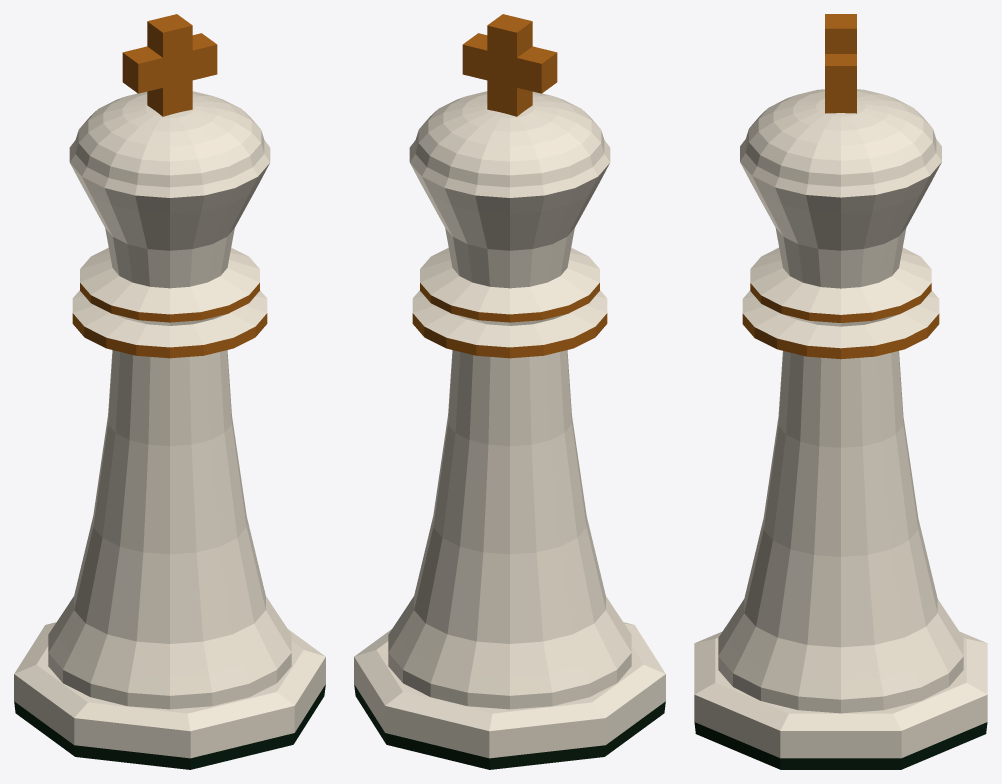
File: cozy_chess_white_king.obj
3 views of the same model, side by side, from view 1: azimuth 30°, elevation 25°; view 2: azimuth 150°, elevation 25°; view 3: azimuth 270°, elevation 25° (orthographic).
Parts seen in each view (by area): view 1: Chess_White_King_Mesh; view 2: Chess_White_King_Mesh; view 3: Chess_White_King_Mesh.
Boxes of the visible parts, box(x1,y1,x2,y2) form: Chess_White_King_Mesh: box(14, 14, 325, 769); Chess_White_King_Mesh: box(354, 14, 665, 769); Chess_White_King_Mesh: box(694, 14, 987, 769).
Size of the model in its own units: 0.0407 by 0.1054 by 0.0407.
